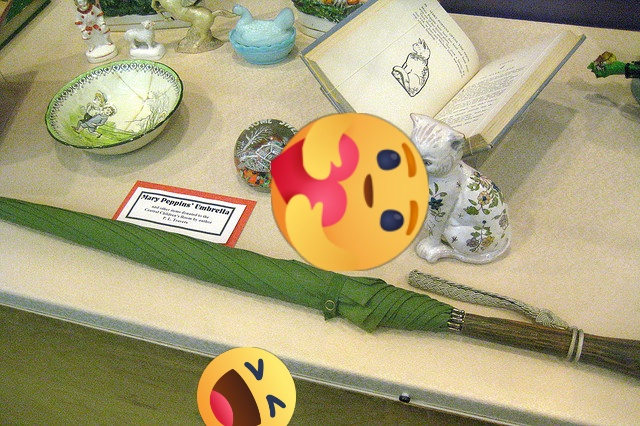care: (271, 113, 429, 271)
haha: (197, 347, 296, 426)
